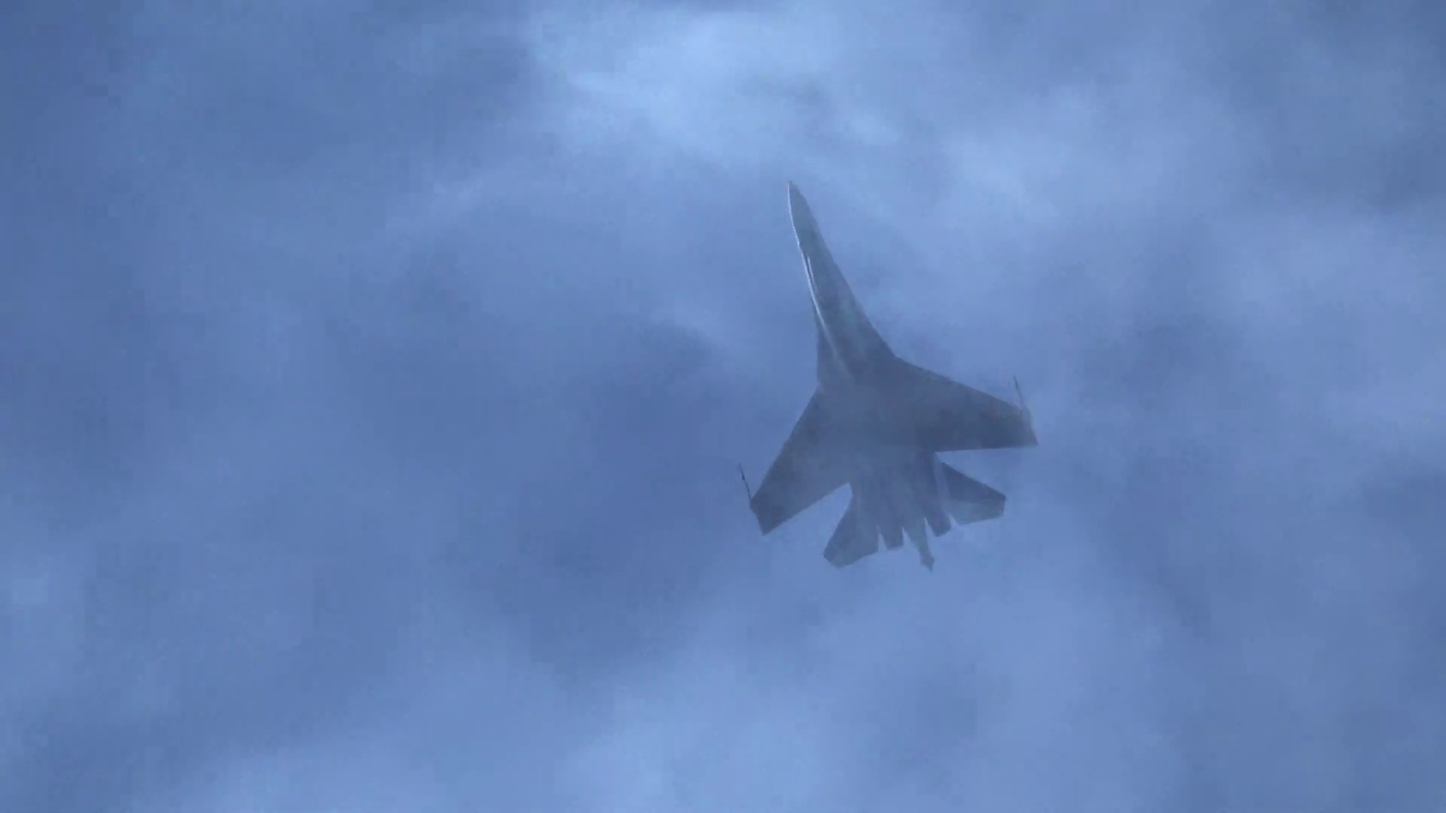Su35: (736, 180, 1038, 572)
